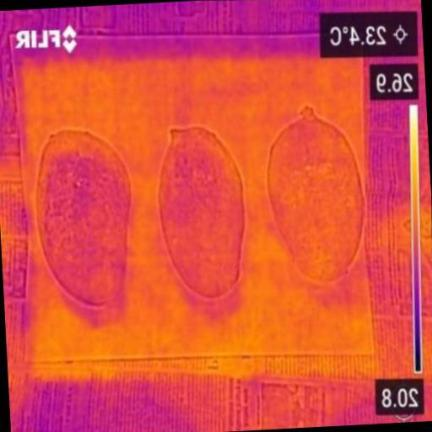mango: (37, 130, 131, 328), (268, 105, 363, 282), (160, 126, 245, 299)
